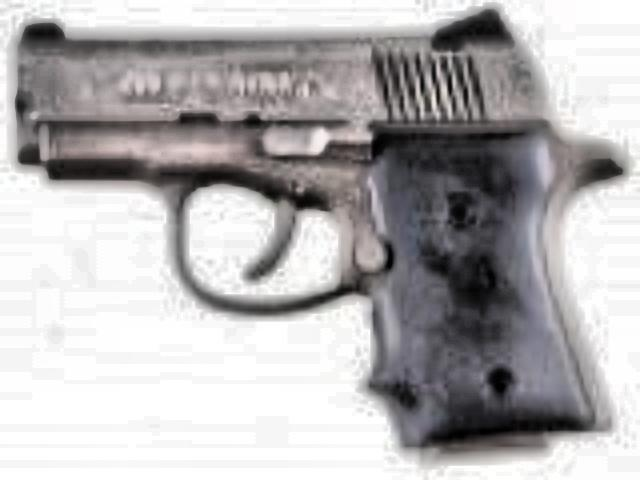pistol: (4, 0, 612, 452)
